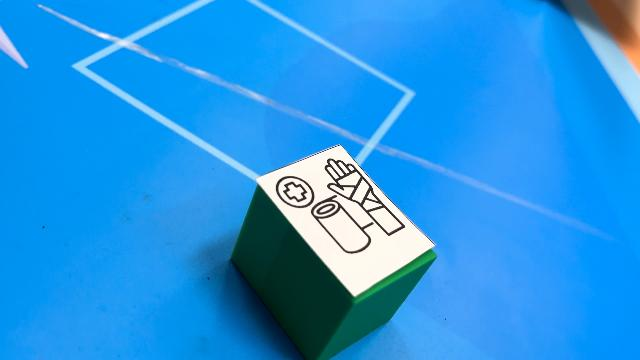bandage: (229, 144, 437, 358)
